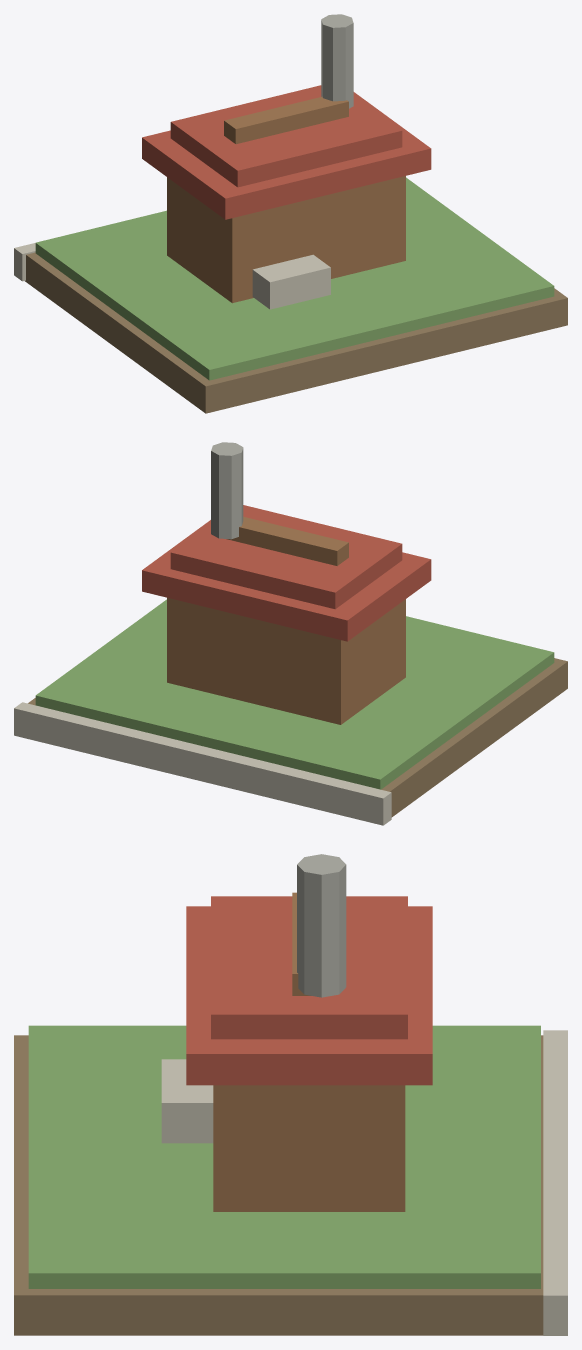
Rendered from 10_LoLuyen.glb.
3 renders of one model, top to bottom at view 1: azimuth 30°, elevation 25°; view 2: azimuth 150°, elevation 25°; view 3: azimuth 270°, elevation 25°, orthographic. The views are drawn at different scales.
Visible parts, largest first — view 1: grass, soil, house, roof2, roof, forge, ridge, chimney, border; view 2: grass, house, border, roof2, roof, soil, chimney, ridge; view 3: grass, soil, house, roof2, roof, border, chimney, forge, ridge.
Part boxes in pixels (<box>): grass: <box>35,177,554,380</box>; soil: <box>25,252,567,413</box>; house: <box>167,176,405,303</box>; roof2: <box>170,85,402,187</box>; roof: <box>142,92,431,219</box>; forge: <box>252,254,330,309</box>; ridge: <box>224,96,348,144</box>; chimney: <box>321,14,353,108</box>; border: <box>14,243,35,281</box>; grass: <box>35,599,554,789</box>; house: <box>167,597,405,724</box>; border: <box>14,702,391,825</box>; roof2: <box>170,505,402,609</box>; roof: <box>142,520,431,641</box>; soil: <box>28,658,567,817</box>; chimney: <box>211,442,243,539</box>; ridge: <box>226,516,348,565</box>; grass: <box>28,1025,540,1288</box>; soil: <box>14,1035,543,1335</box>; house: <box>213,1085,405,1211</box>; roof2: <box>211,896,407,1039</box>; roof: <box>186,906,432,1085</box>; border: <box>543,1030,567,1335</box>; chimney: <box>297,854,346,997</box>; forge: <box>161,1059,213,1143</box>; ridge: <box>292,892,310,995</box>.
Bounding box in the file's own units: 2.55 × 1.71 × 2.25.
